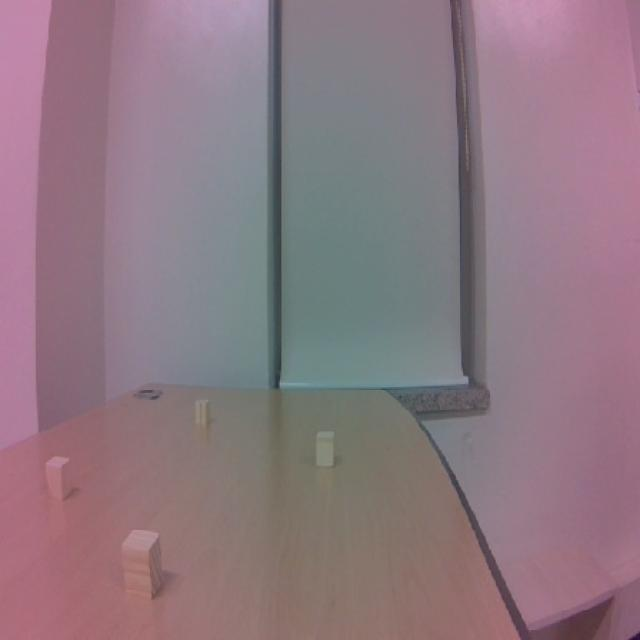obstacle: (114, 519, 174, 606), (40, 448, 76, 508), (310, 427, 343, 472), (190, 390, 222, 432)
